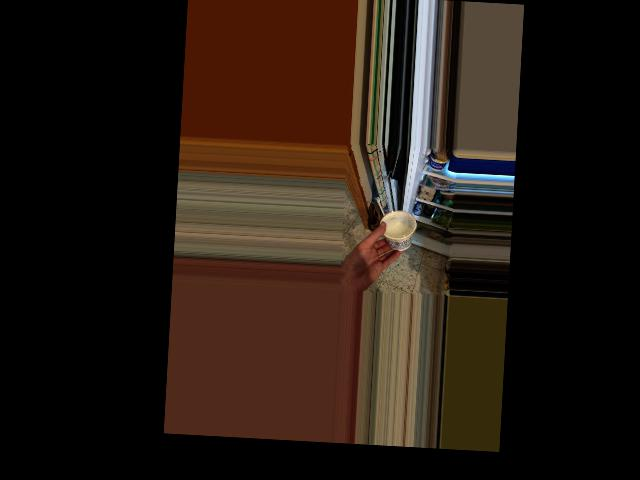cotage: (382, 211, 416, 251)
